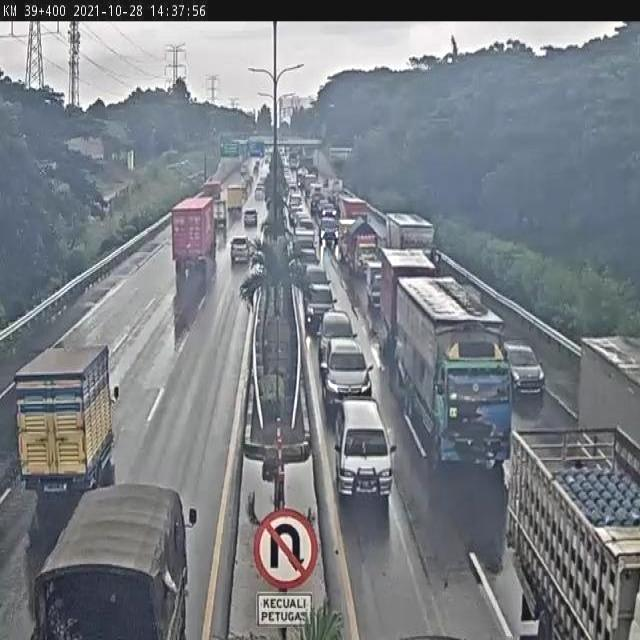Car: (332, 397, 393, 510), (318, 339, 374, 398), (504, 340, 548, 397), (305, 283, 332, 328), (317, 314, 354, 340), (289, 232, 317, 255), (231, 236, 253, 264), (319, 217, 339, 244), (302, 265, 328, 283), (295, 247, 317, 266), (291, 219, 314, 235), (316, 204, 338, 220), (241, 209, 260, 226), (311, 195, 325, 216), (290, 198, 304, 214), (256, 185, 266, 206), (238, 164, 250, 176), (287, 183, 297, 196)
Truck: (510, 412, 639, 640), (45, 484, 206, 640), (397, 278, 506, 472), (8, 338, 122, 501), (163, 200, 217, 272), (384, 214, 435, 248), (339, 222, 378, 263), (340, 198, 372, 219), (368, 264, 383, 304), (213, 201, 230, 235), (224, 185, 244, 211), (325, 181, 342, 197), (296, 169, 309, 189), (305, 175, 317, 191)
